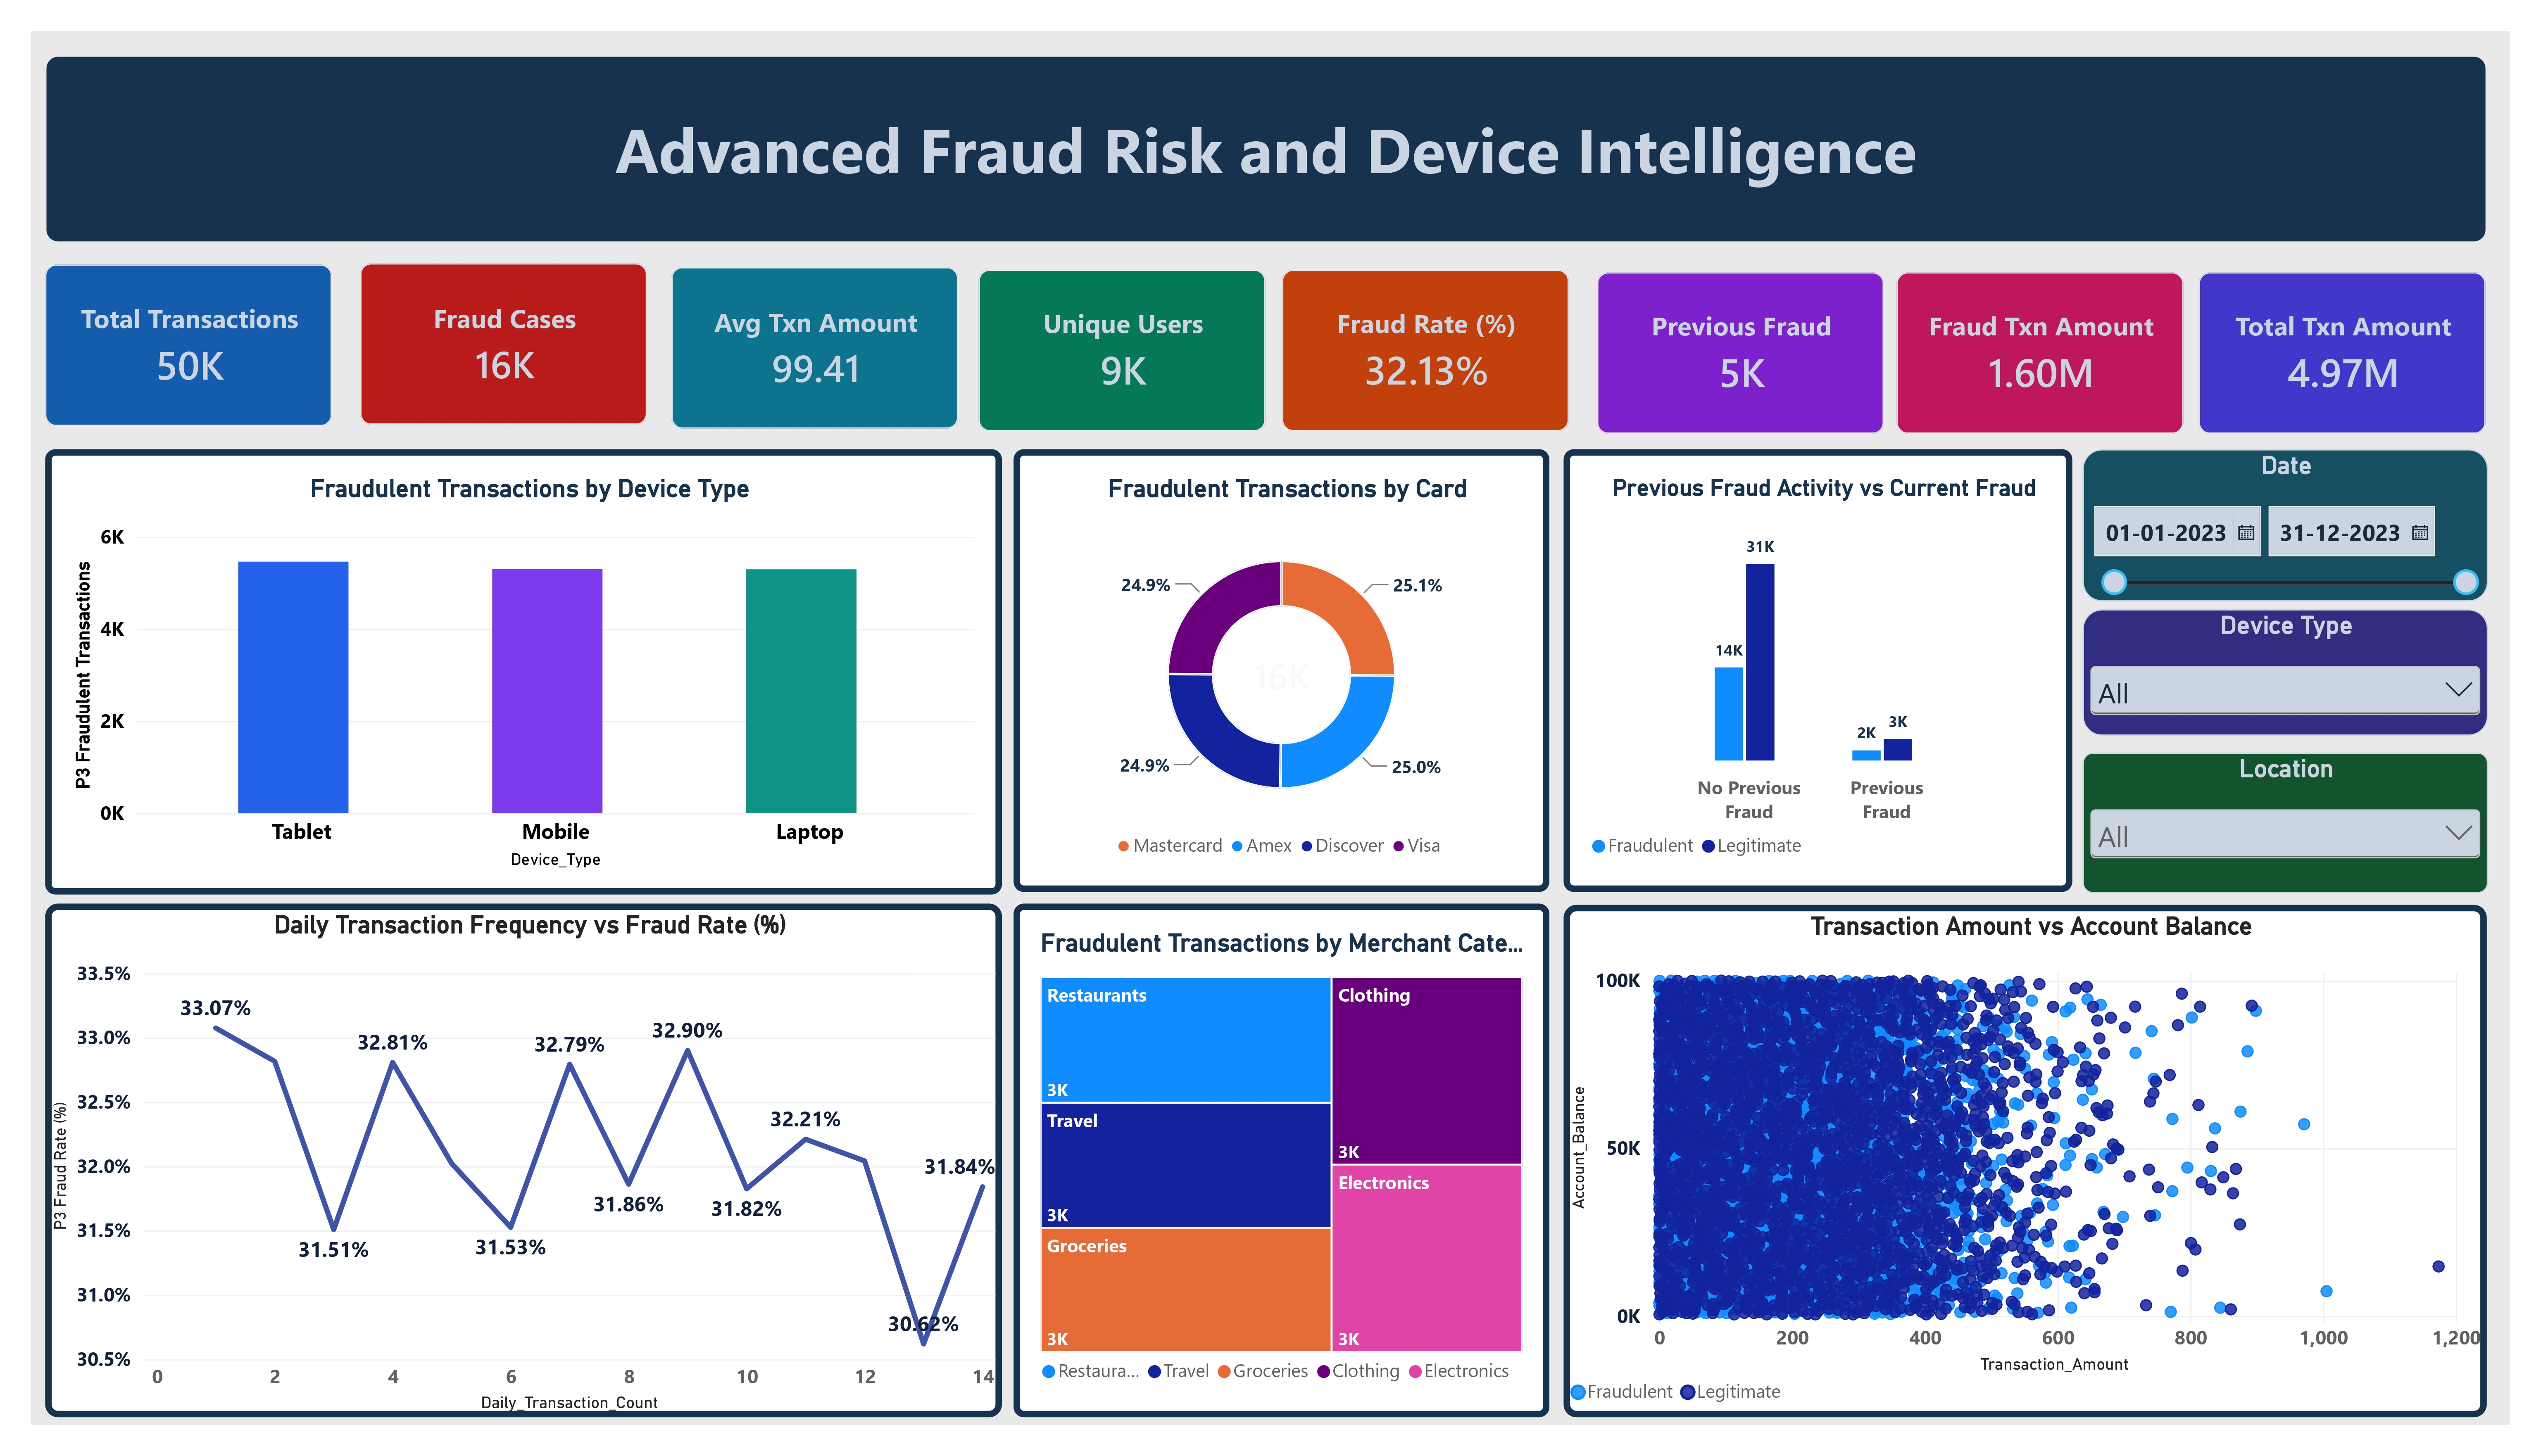

The page's visual inventory and layout, read from the dashboard file:
{"tool":"powerbi","page":{"name":"Page 3","canvas":[1920,1080],"ordinal":2},"visuals":[{"type":"textbox","box":[11.3,18.8,1890.2,145.1],"z":0},{"type":"cardVisual","fields":{"Data":["synthetic_fraud_dataset1 (1).P3 Total Transactions"]},"box":[11.2,180,222.5,126.2],"z":1000},{"type":"cardVisual","fields":{"Data":["synthetic_fraud_dataset.P3 Fraudulent Transactions"]},"box":[254.9,180.3,222,125],"z":2000},{"type":"cardVisual","fields":{"Data":["synthetic_fraud_dataset.P3 Fraud Rate (%)"]},"box":[969,184.5,222,125],"z":3000},{"type":"cardVisual","fields":{"Data":["synthetic_fraud_dataset.P3 Unique Users"]},"box":[733.8,184.5,222,125],"z":4000},{"type":"cardVisual","fields":{"Data":["synthetic_fraud_dataset.P3 Total Transaction Amount"]},"box":[1678.9,187.3,222,125],"z":5000},{"type":"cardVisual","fields":{"Data":["synthetic_fraud_dataset.P3 Fraud Transaction Amount"]},"box":[1445.1,187.3,222,125],"z":6000},{"type":"cardVisual","fields":{"Data":["synthetic_fraud_dataset.P3 Average Transaction Amount"]},"box":[495.8,183.1,222,125],"z":7000},{"type":"cardVisual","fields":{"Data":["synthetic_fraud_dataset.P3 Previous Fraud Activity"]},"box":[1212.7,187.3,222,125],"z":8000},{"type":"clusteredColumnChart","title":"Fraudulent Transactions by Device Type","fields":{"Category":["synthetic_fraud_dataset.Device_Type"],"Y":["synthetic_fraud_dataset.P3 Fraudulent Transactions"]},"box":[11.3,324.1,740.6,344.9],"z":9000},{"type":"donutChart","title":"Fraudulent Transactions by Card","fields":{"Category":["synthetic_fraud_dataset.Card_Type"],"Y":["synthetic_fraud_dataset.P3 Fraudulent Transactions"]},"box":[761.4,324.1,414.6,343],"z":10000},{"type":"clusteredColumnChart","title":"Previous Fraud Activity vs Current Fraud","fields":{"Category":["synthetic_fraud_dataset.P3 Previous Fraud Status"],"Series":["synthetic_fraud_dataset.P3 Fraud Status"],"Y":["synthetic_fraud_dataset.P3 Total Transactions"]},"box":[1187.3,324.1,393.9,343],"z":11000},{"type":"lineChart","title":"Daily Transaction Frequency vs Fraud Rate (%)","fields":{"Category":["synthetic_fraud_dataset.Daily_Transaction_Count"],"Y":["synthetic_fraud_dataset.P3 Fraud Rate (%)"]},"box":[10.9,675.8,740.6,398.4],"z":12000},{"type":"treemap","title":"Fraudulent Transactions by Merchant Category","fields":{"Group":["synthetic_fraud_dataset.Merchant_Category"],"Values":["synthetic_fraud_dataset.P3 Fraudulent Transactions"]},"box":[760.6,676,415.4,398.1],"z":13000},{"type":"scatterChart","title":"Transaction Amount vs Account Balance","fields":{"Category":["synthetic_fraud_dataset.Transaction_ID"],"Series":["synthetic_fraud_dataset.P3 Fraud Status"],"X":["Sum(synthetic_fraud_dataset.Transaction_Amount)"],"Y":["Sum(synthetic_fraud_dataset.Account_Balance)"]},"box":[1187.3,676.6,714.3,397.6],"z":14000},{"type":"slicer","title":"Date","fields":{"Values":["synthetic_fraud_dataset.Date"]},"box":[1588.7,323.9,314.1,118.3],"z":15000},{"type":"slicer","title":"Device Type","fields":{"Values":["synthetic_fraud_dataset.Device_Type"]},"box":[1588.7,447.9,314.7,98],"z":16000},{"type":"slicer","title":"Location","fields":{"Values":["synthetic_fraud_dataset.Location"]},"box":[1588.7,559.2,314.1,108.5],"z":17000}]}

Visuals, with their boxes in screenshot pixels (x1, y1, x2, y2):
textbox: BBox(28, 44, 2495, 234)
cardVisual - synthetic_fraud_dataset1 (1).P3 Total Transactions: BBox(28, 255, 318, 419)
cardVisual - synthetic_fraud_dataset.P3 Fraudulent Transactions: BBox(346, 255, 635, 418)
cardVisual - synthetic_fraud_dataset.P3 Fraud Rate (%): BBox(1278, 261, 1568, 424)
cardVisual - synthetic_fraud_dataset.P3 Unique Users: BBox(971, 261, 1261, 424)
cardVisual - synthetic_fraud_dataset.P3 Total Transaction Amount: BBox(2204, 264, 2494, 428)
cardVisual - synthetic_fraud_dataset.P3 Fraud Transaction Amount: BBox(1899, 264, 2189, 428)
cardVisual - synthetic_fraud_dataset.P3 Average Transaction Amount: BBox(660, 259, 950, 422)
cardVisual - synthetic_fraud_dataset.P3 Previous Fraud Activity: BBox(1596, 264, 1886, 428)
"Fraudulent Transactions by Device Type" clusteredColumnChart: BBox(28, 443, 995, 893)
"Fraudulent Transactions by Card" donutChart: BBox(1007, 443, 1548, 890)
"Previous Fraud Activity vs Current Fraud" clusteredColumnChart: BBox(1563, 443, 2077, 890)
"Daily Transaction Frequency vs Fraud Rate (%)" lineChart: BBox(27, 902, 994, 1421)
"Fraudulent Transactions by Merchant Category" treemap: BBox(1006, 902, 1548, 1421)
"Transaction Amount vs Account Balance" scatterChart: BBox(1563, 903, 2495, 1421)
"Date" slicer: BBox(2087, 442, 2497, 597)
"Device Type" slicer: BBox(2087, 604, 2498, 732)
"Location" slicer: BBox(2087, 749, 2497, 891)
